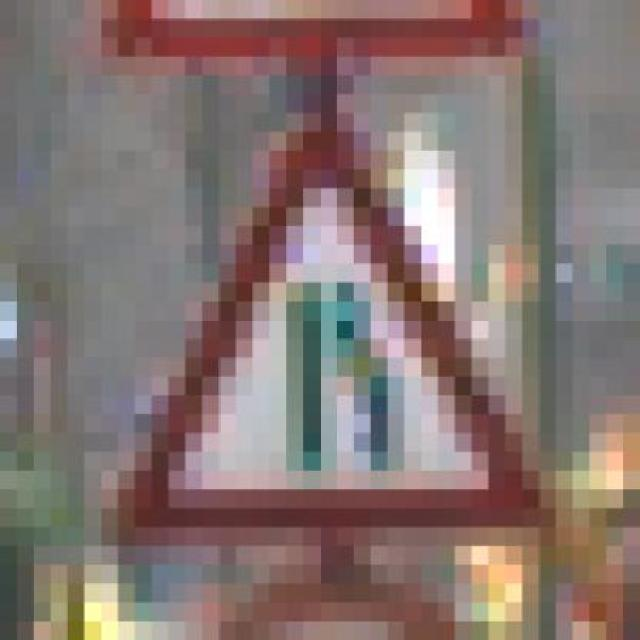-Road narrows on right: (101, 76, 539, 546)
